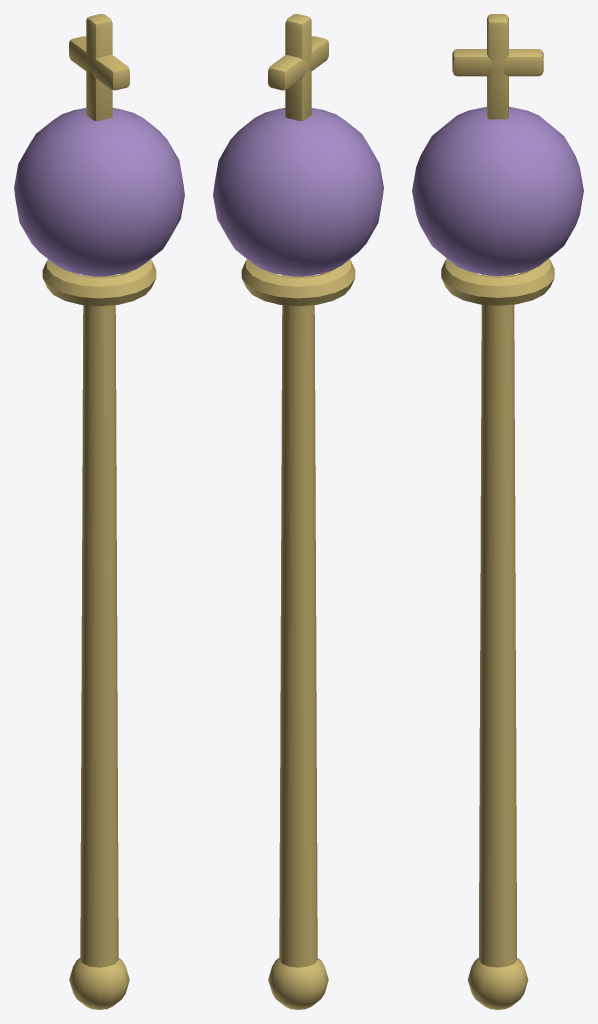
The model's file is SM_Scepter.glb.
3 renders of one model, left to right at view 1: azimuth 30°, elevation 25°; view 2: azimuth 150°, elevation 25°; view 3: azimuth 270°, elevation 25°, orthographic.
Parts seen in each view (by area): view 1: SM_Scepter; view 2: SM_Scepter; view 3: SM_Scepter.
Part boxes in pixels (box(x1,y1,x2,y2)): SM_Scepter: box(14, 14, 184, 1009); SM_Scepter: box(213, 14, 383, 1009); SM_Scepter: box(412, 14, 583, 1009).
Bounding box in the file's own units: 0.1699 × 1.08 × 0.1699.
